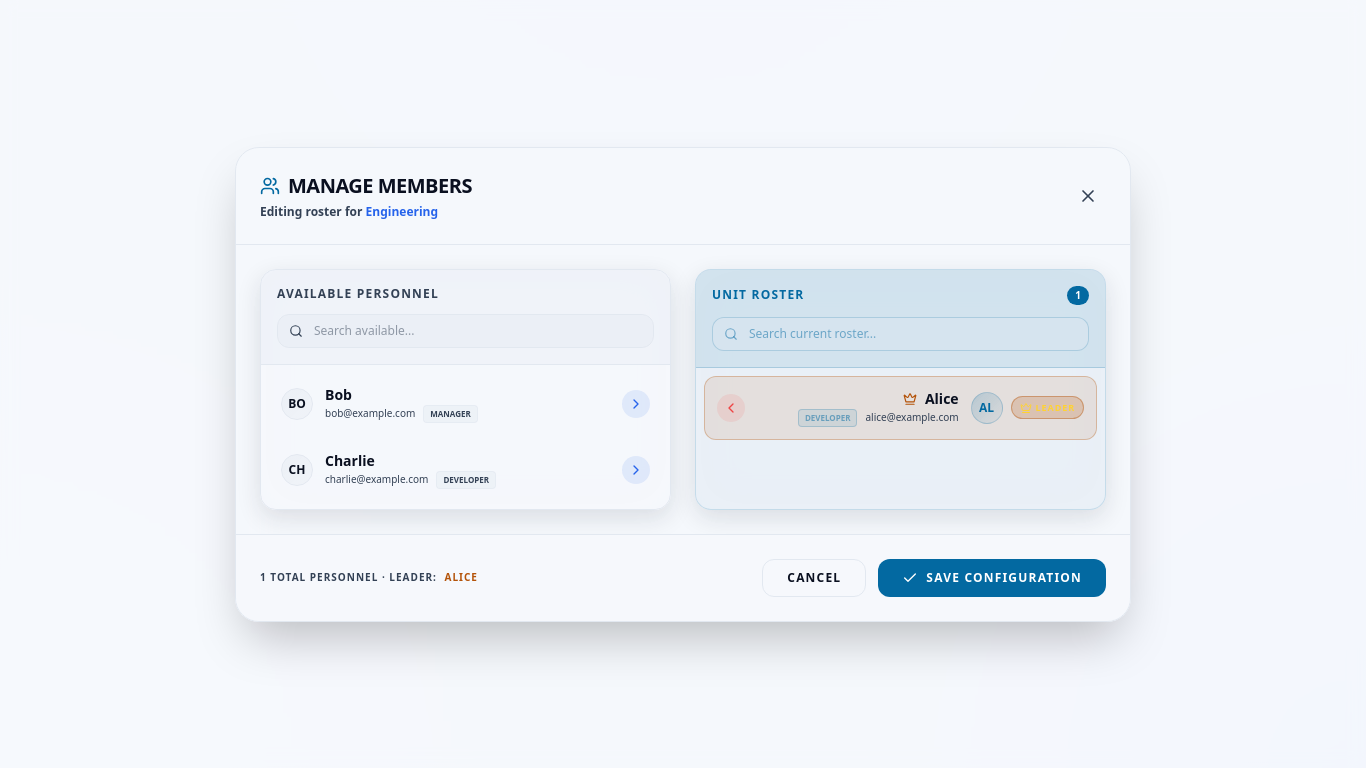
it: MemberManagementModal › resets leader when leader is removed from roster (toggleMember)
The image size is (1366, 768).
// Remove Alice from roster
Click the button titled "Remove from unit" at [731, 408], box [717,394,745,422]
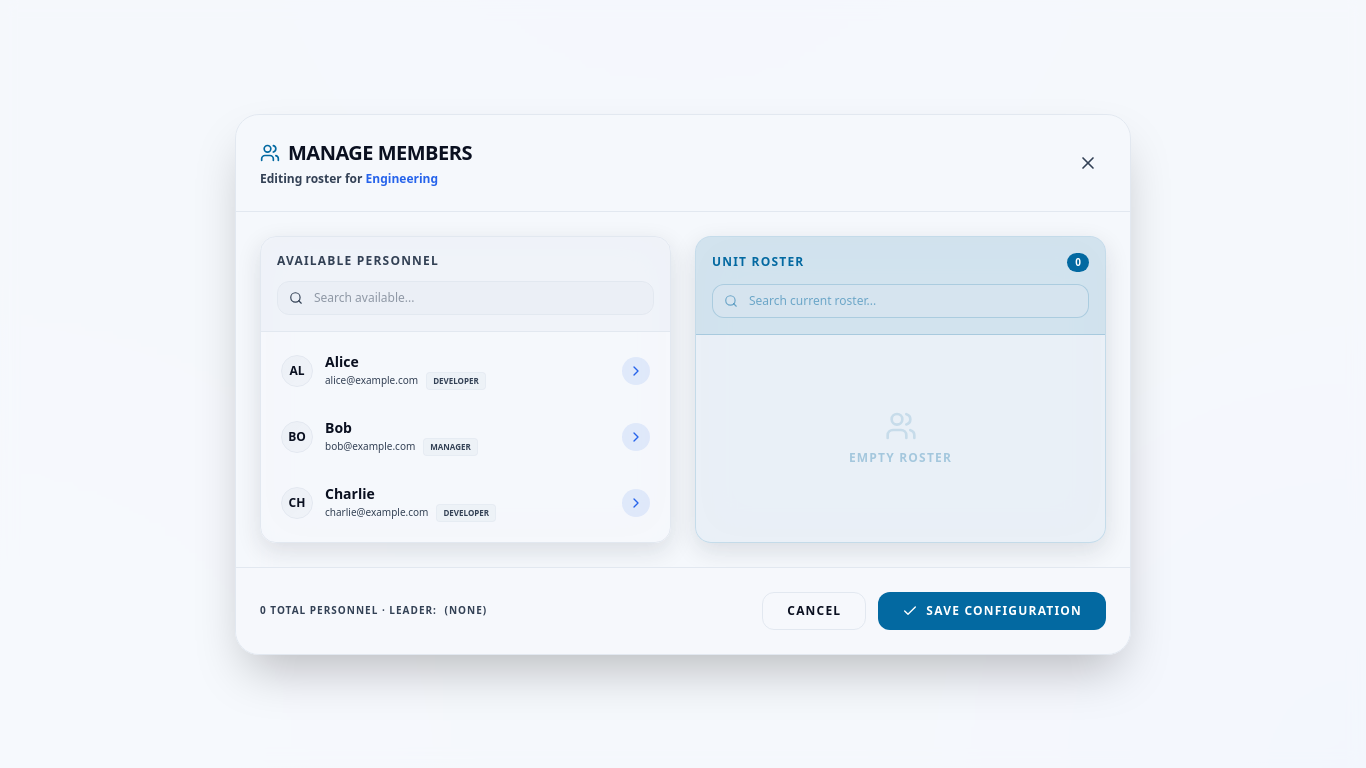
expect the text "(none)" is shown: met, box [444,603,487,617]
